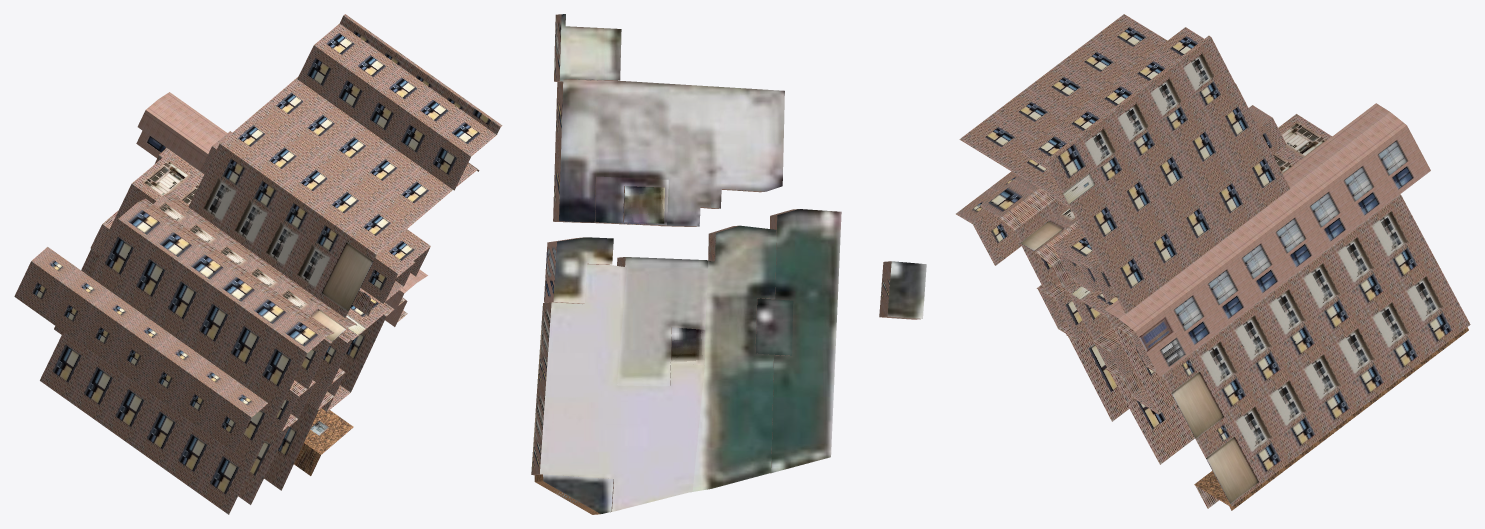
3 views of the same model, side by side, from view 1: azimuth 30°, elevation 25°; view 2: azimuth 150°, elevation 25°; view 3: azimuth 270°, elevation 25° (orthographic). The views are drawn at different scales.
Bounding box in the file's own units: 39.3 × 41.22 × 39.
Materials: 46 (46 with a texture image).
